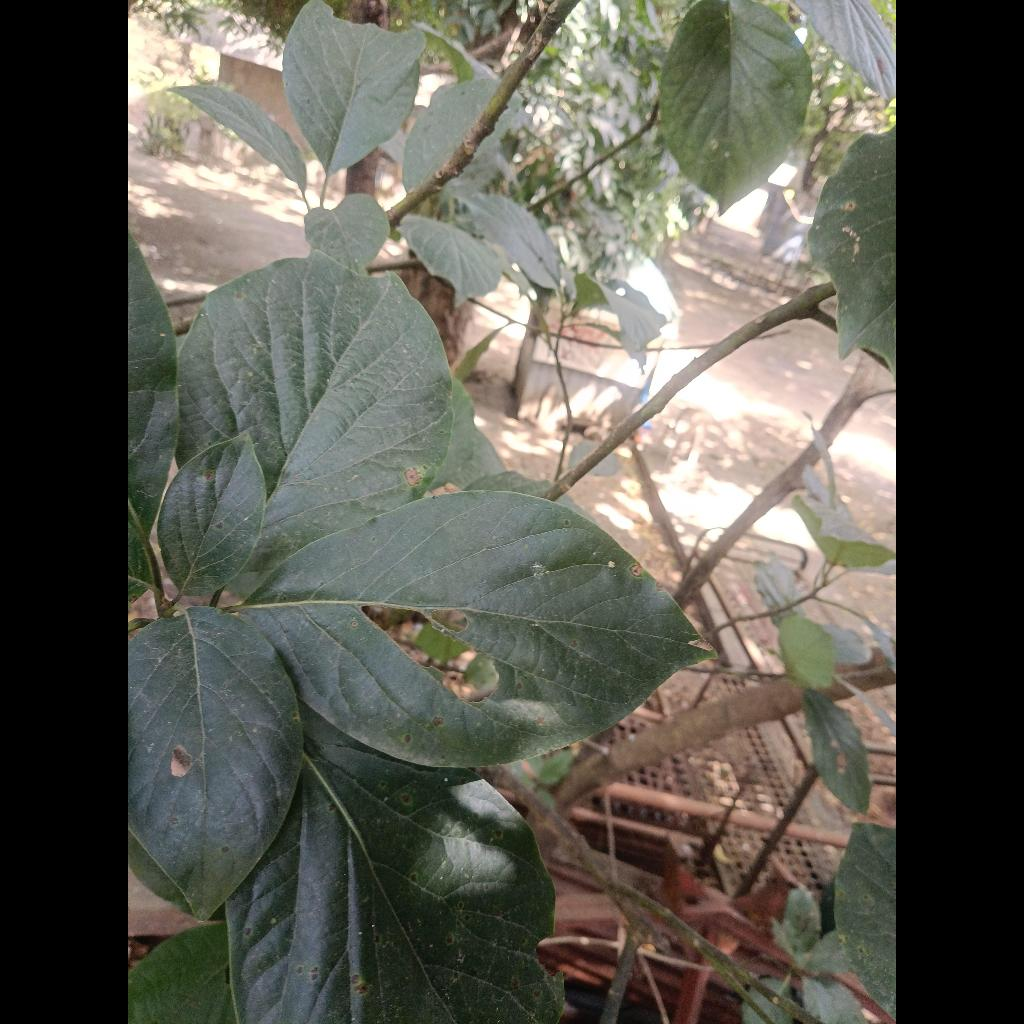Pest Infested: (239, 492, 706, 767)
